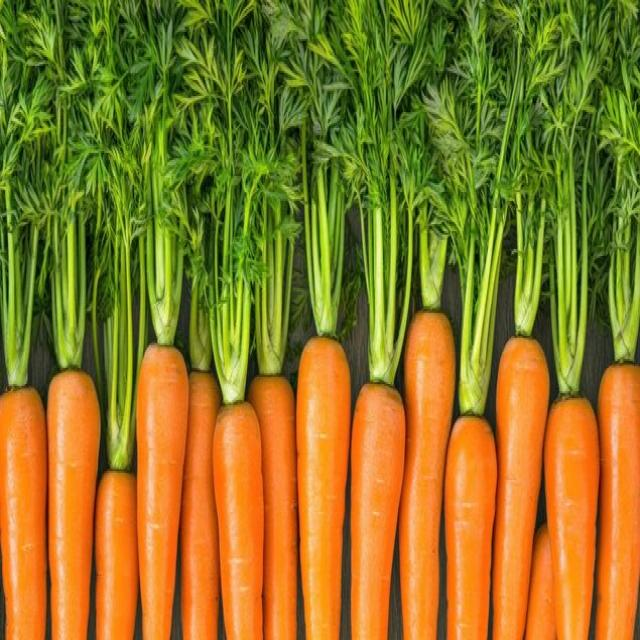Carrot: (542, 132, 600, 638), (398, 308, 456, 638), (492, 334, 549, 638), (295, 334, 351, 638), (135, 342, 189, 638), (46, 366, 101, 638), (350, 381, 405, 638), (543, 395, 600, 638), (247, 374, 297, 638), (212, 400, 264, 638), (595, 359, 639, 638), (443, 412, 497, 638), (0, 384, 46, 638), (179, 368, 221, 638), (94, 470, 138, 638), (525, 523, 556, 638)
